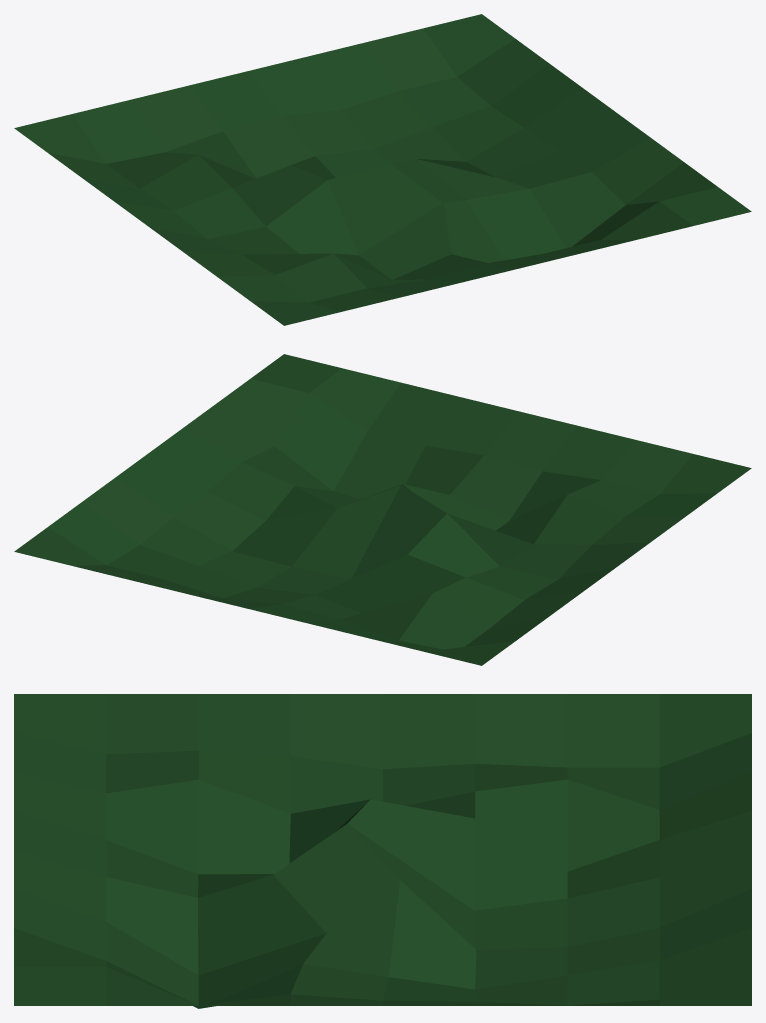
Rendered from Terrain_20_Dark_Green.fbx.
The picture shows the model from 3 angles, top to bottom: view 1: azimuth 30°, elevation 25°; view 2: azimuth 150°, elevation 25°; view 3: azimuth 270°, elevation 25°; orthographic projection. The views are drawn at different scales.
Visible parts, largest first — view 1: Terrain_20_Dark_Green; view 2: Terrain_20_Dark_Green; view 3: Terrain_20_Dark_Green.
Part boxes in pixels (x1,y1,x2,y2): Terrain_20_Dark_Green: (14,14,751,325); Terrain_20_Dark_Green: (14,354,751,665); Terrain_20_Dark_Green: (14,694,751,1008).
Bounding box in the file's own units: 8000 × 1307 × 8000.
